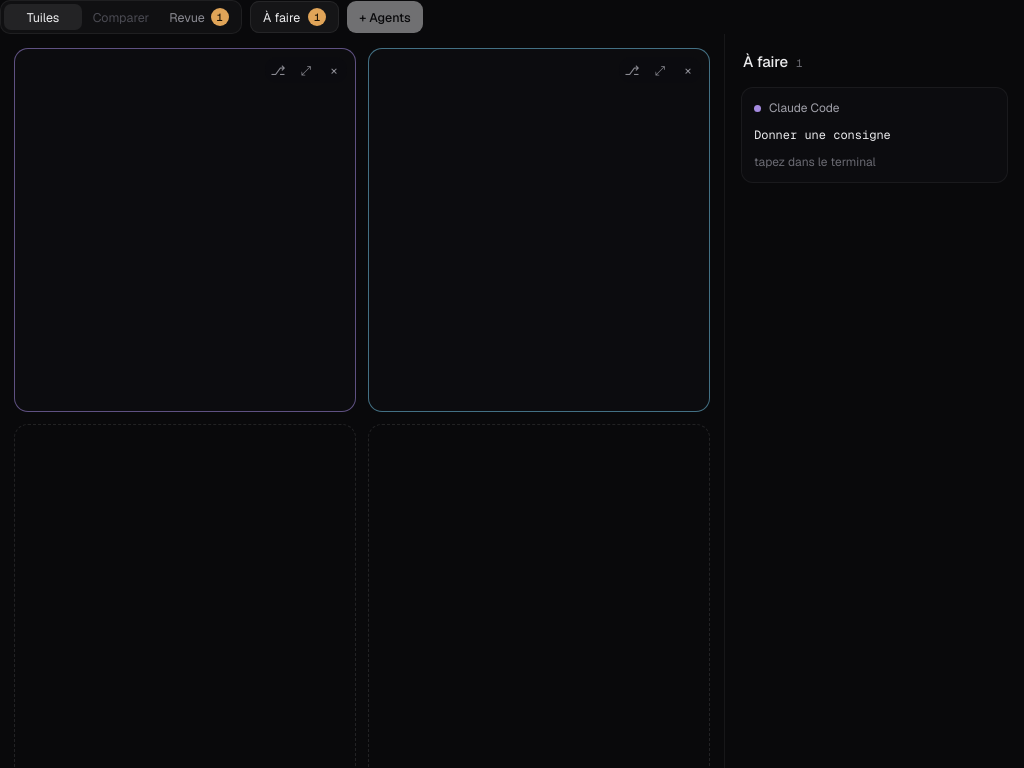
Test: Review (002 T018, US1) › says the agent is correcting what the review sent it
Click the button named "Agrandir".
click(660, 70)  # box x1=647 y1=57 x2=673 y2=83
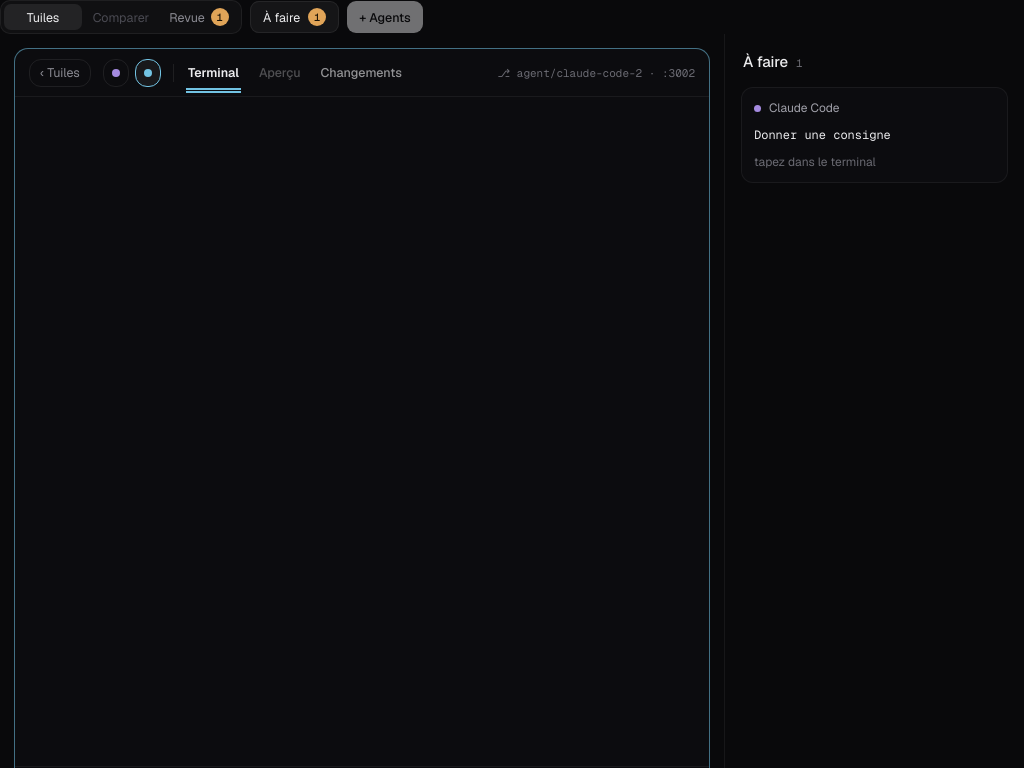
Click the tab "Changements".
click(361, 72)  # box x1=318 y1=55 x2=404 y2=90
(page scrolled)
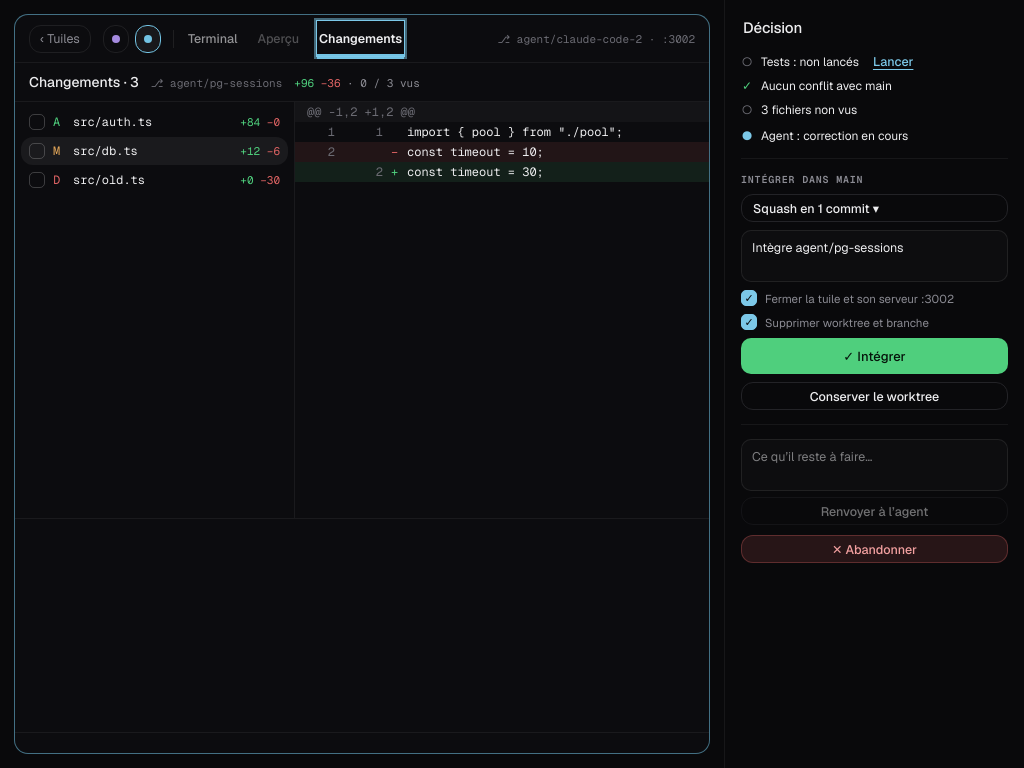
Check: the element "Décision" shows "Agent : correction en cours", box x1=724 y1=0 x2=1023 y2=767
